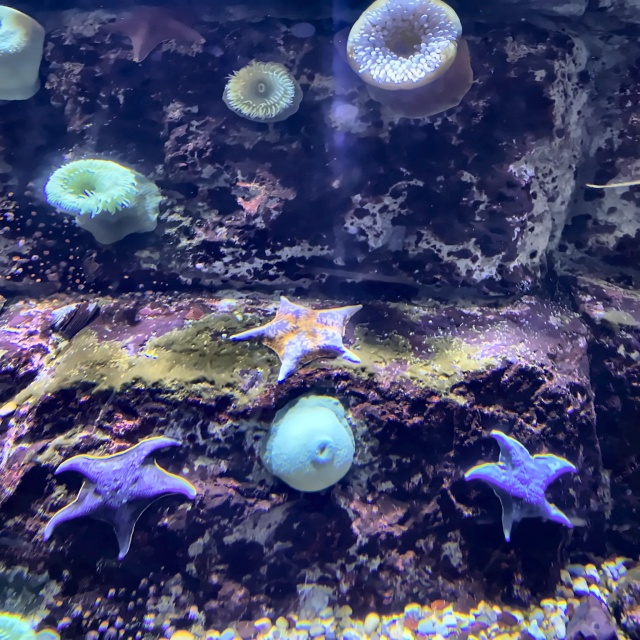starfish: (44, 435, 196, 560), (460, 428, 584, 543), (229, 296, 365, 384)
